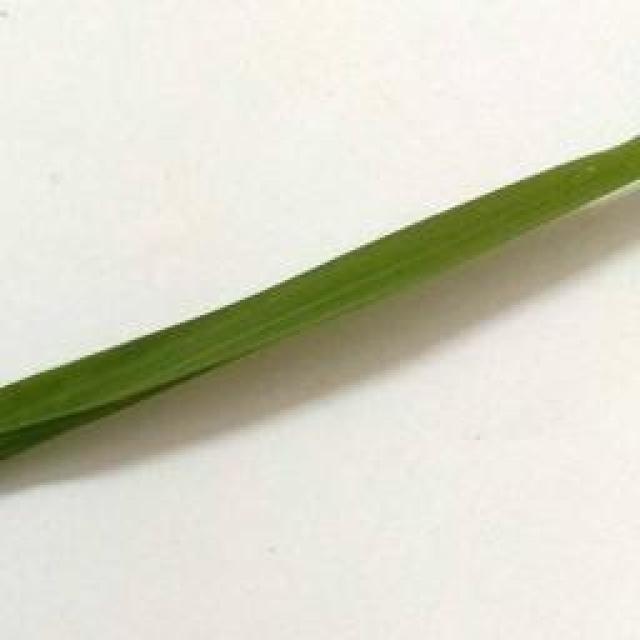Healthy-Plant: (0, 128, 640, 461)
